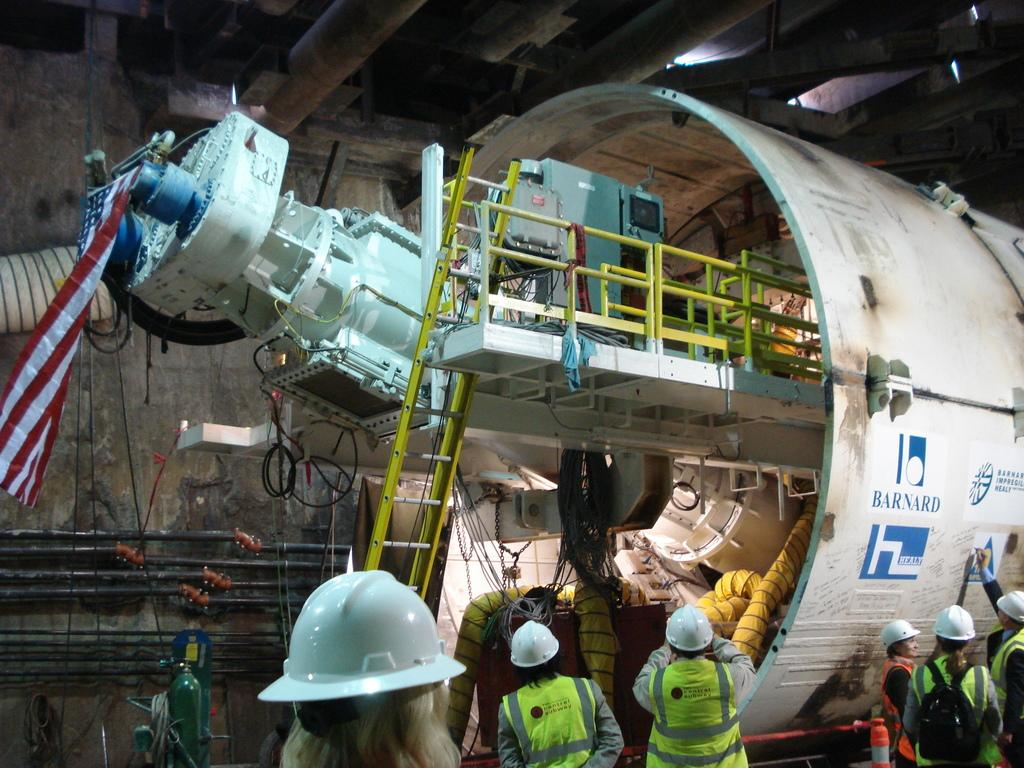helmet: (257, 570, 467, 768), (510, 620, 559, 684), (665, 604, 714, 663), (932, 605, 976, 653), (881, 619, 921, 657), (996, 590, 1024, 629)
